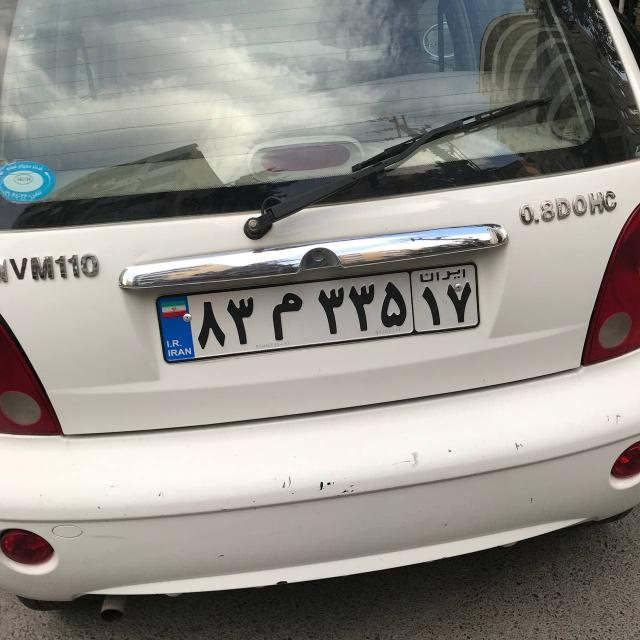Plates: (157, 259, 483, 363)
